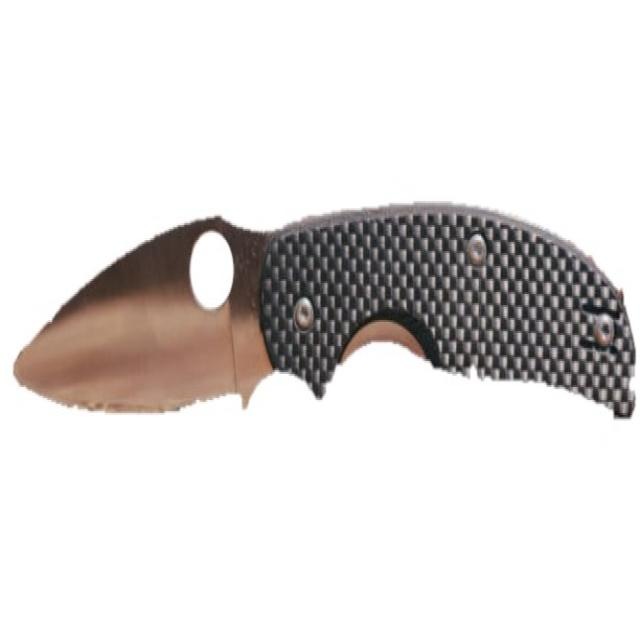knife: (9, 181, 640, 424)
